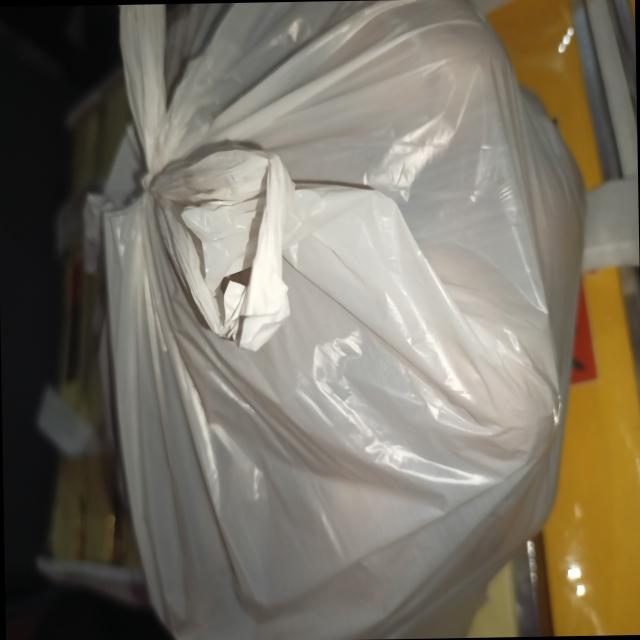plastic_bag: (25, 0, 605, 640)
